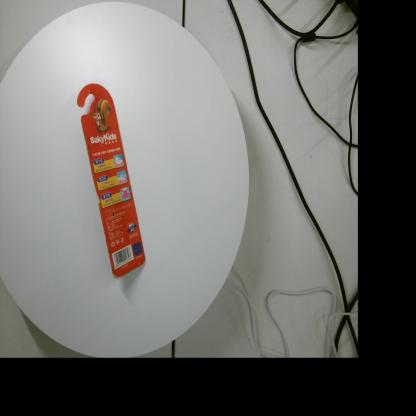Personal Hygiene: (77, 84, 145, 280)
